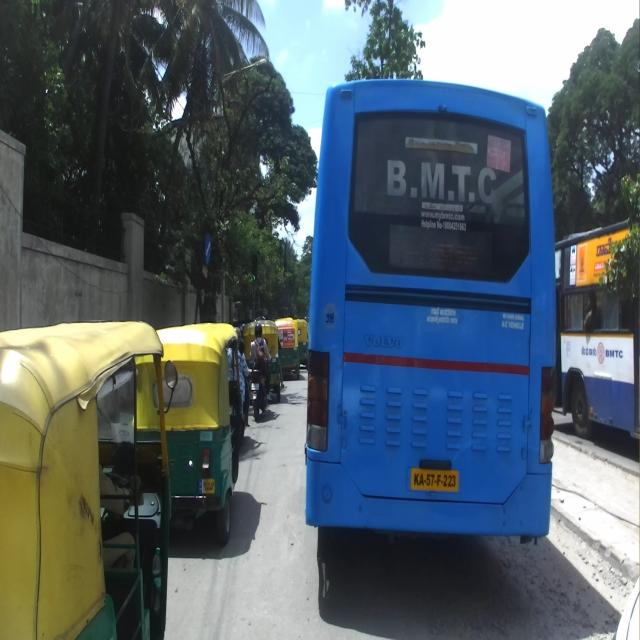autorickshaw: (1, 320, 179, 636), (151, 320, 243, 544)
bus: (299, 74, 559, 554)
